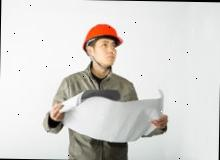helmet: (82, 22, 126, 51)
